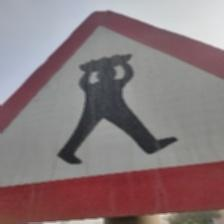Market-in-front: (1, 10, 223, 220)
